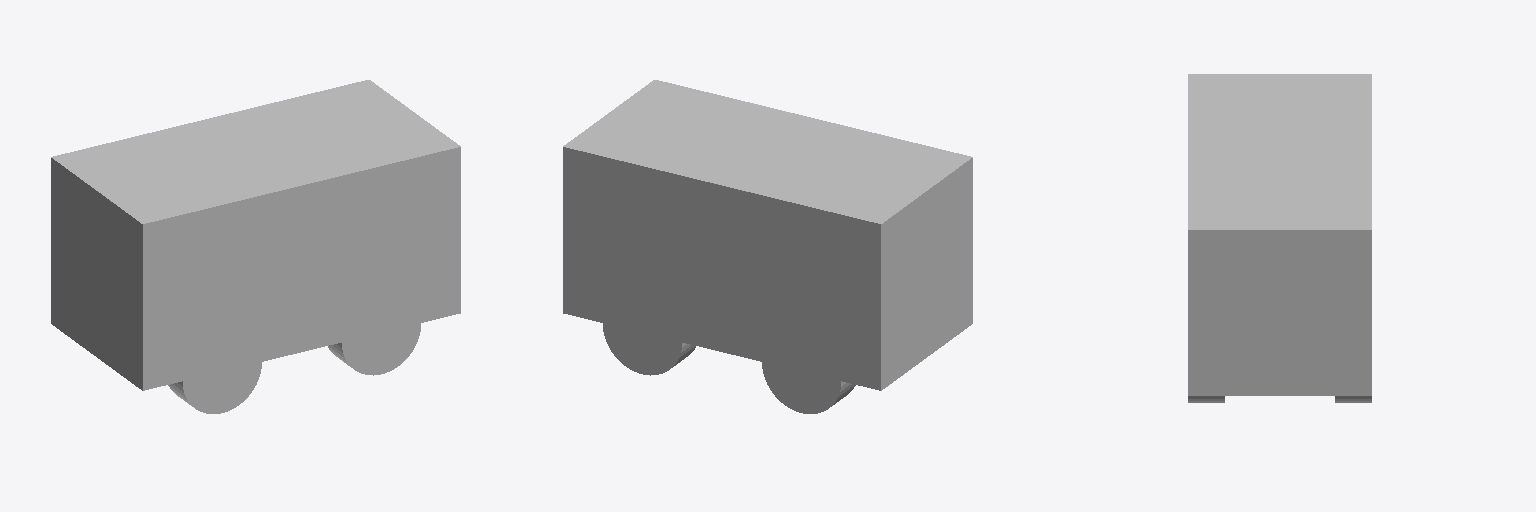
File: train v1.obj
3 renders of one model, left to right at view 1: azimuth 30°, elevation 25°; view 2: azimuth 150°, elevation 25°; view 3: azimuth 270°, elevation 25°, orthographic.
Visible parts, largest first — view 1: Body1, Body2, Body3; view 2: Body1, Body4, Body5; view 3: Body1.
Part boxes in pixels (bbox=[...]): Body1: bbox=[51, 80, 460, 390]; Body2: bbox=[168, 362, 261, 413]; Body3: bbox=[328, 323, 420, 375]; Body1: bbox=[563, 80, 972, 390]; Body4: bbox=[762, 362, 855, 413]; Body5: bbox=[603, 323, 695, 375]; Body1: bbox=[1188, 74, 1371, 395].
Bounding box in the file's own units: 20 × 12.49 × 10.